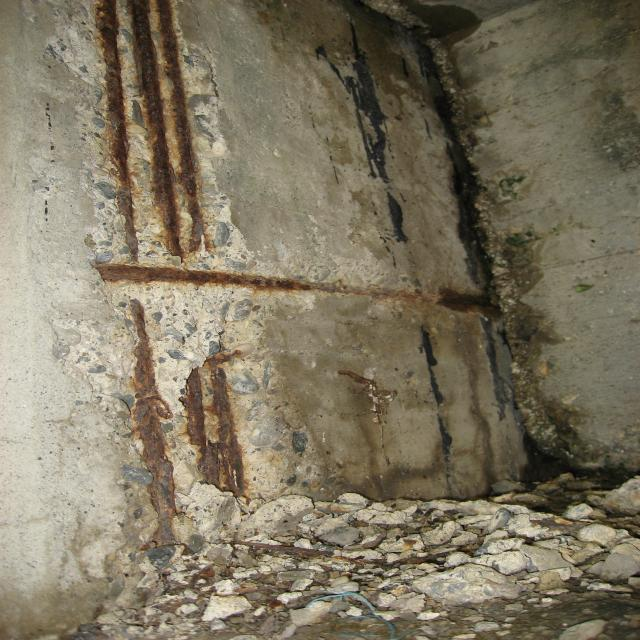corrosion: (85, 2, 587, 536)
